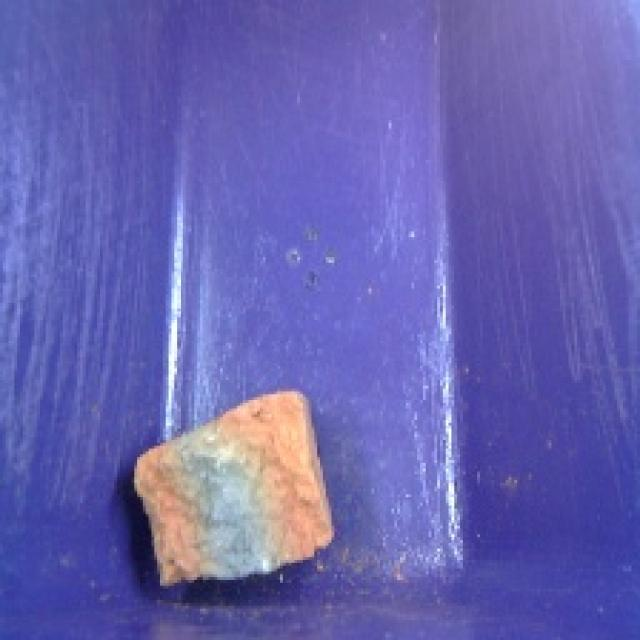brick: (117, 373, 344, 609)
